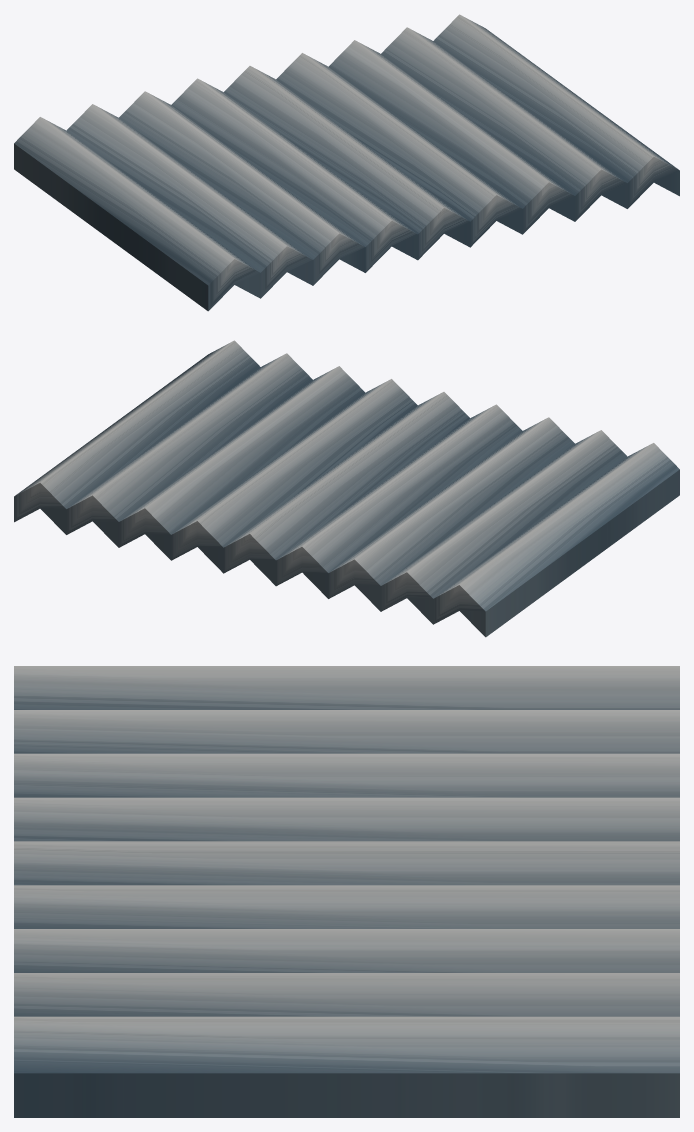
Rendered from Roof_B1.fbx.
3 renders of one model, top to bottom at view 1: azimuth 30°, elevation 25°; view 2: azimuth 150°, elevation 25°; view 3: azimuth 270°, elevation 25°, orthographic. The views are drawn at different scales.
Parts seen in each view (by area): view 1: Roof_B1; view 2: Roof_B1; view 3: Roof_B1.
Boxes of the visible parts, <box> form: Roof_B1: <box>14,14,679,311</box>; Roof_B1: <box>14,340,679,637</box>; Roof_B1: <box>14,666,679,1117</box>.
Bounding box in the file's own units: 332 × 31.1 × 237.
